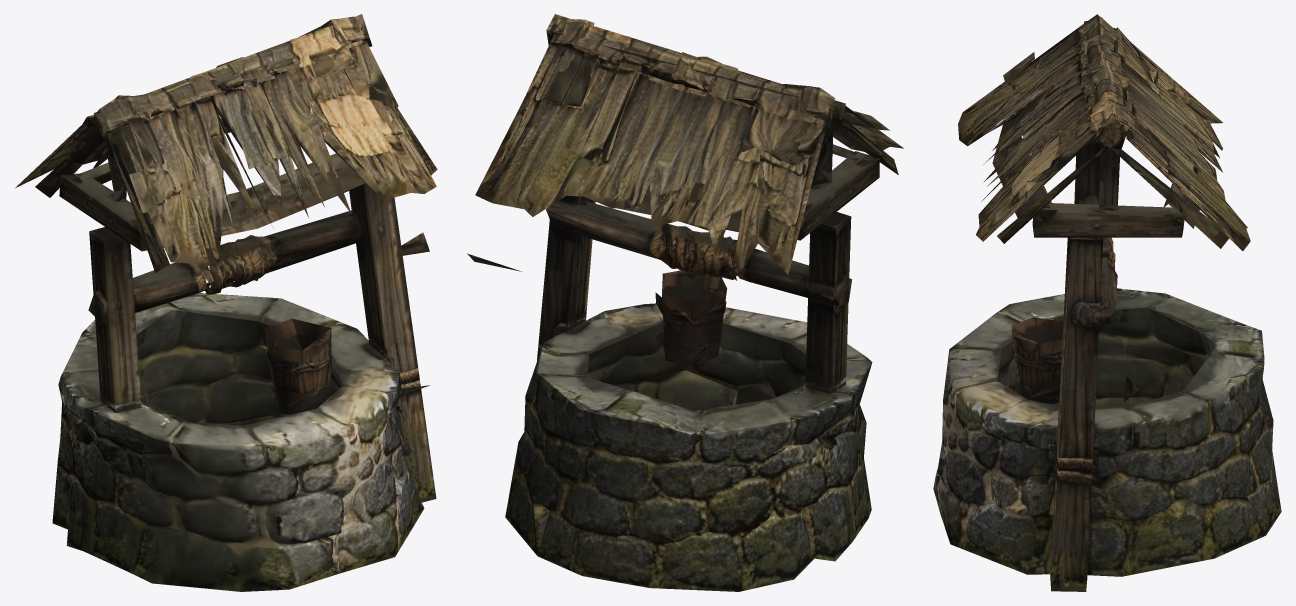
The model's file is act1_kit_v1_village_well.glb.
The picture shows the model from 3 angles, left to right: view 1: azimuth 30°, elevation 25°; view 2: azimuth 150°, elevation 25°; view 3: azimuth 270°, elevation 25°; orthographic projection. The views are drawn at different scales.
Visible parts, largest first — view 1: A01_5_village_well; view 2: A01_5_village_well; view 3: A01_5_village_well.
Part boxes in pixels (<box>): A01_5_village_well: <box>15,14,437,591</box>; A01_5_village_well: <box>467,14,903,591</box>; A01_5_village_well: <box>933,14,1281,591</box>.
Size of the model in its own units: 0.7959 by 0.991 by 0.6859.
1 material, 1 textured.
